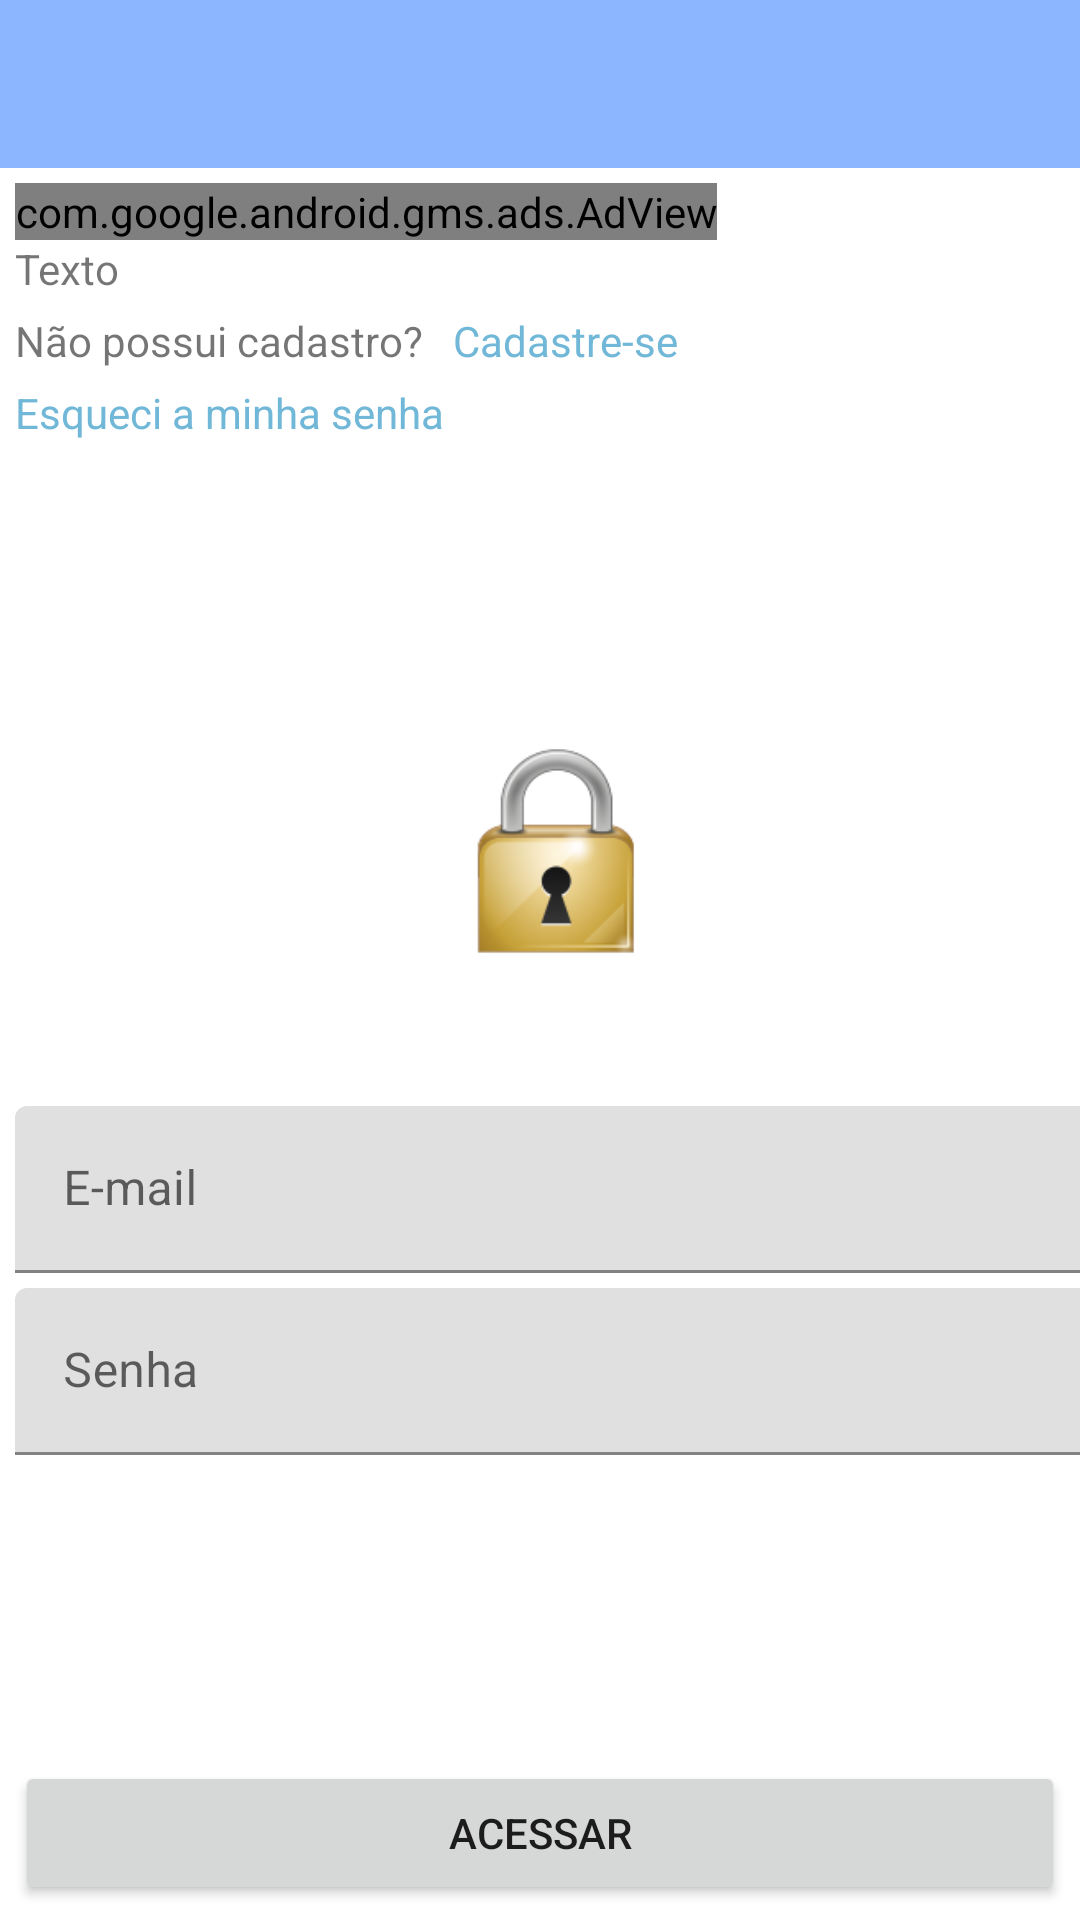

Where icons sit on this 1080px x 1920px app screen, as (x1, y1, x2, y2):
login: (477, 749, 634, 953)
